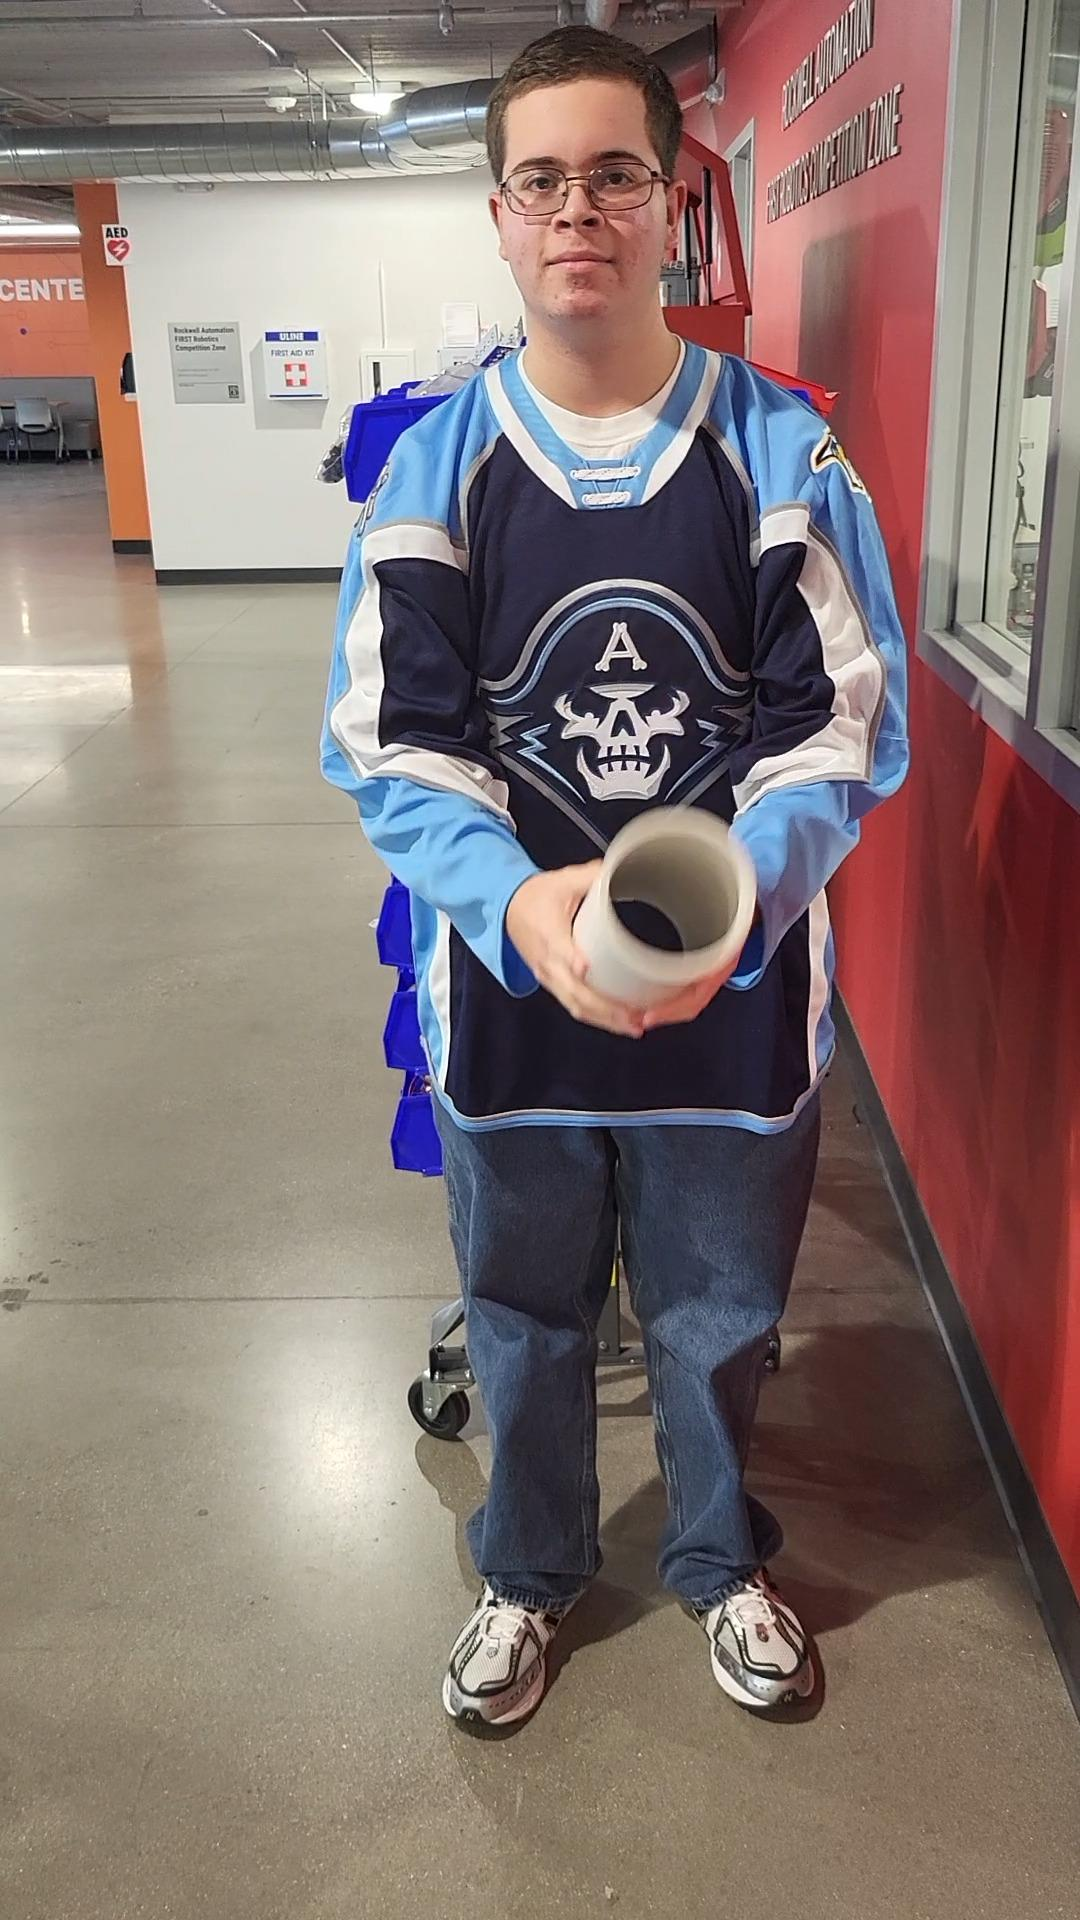coral: (563, 811, 766, 1019)
